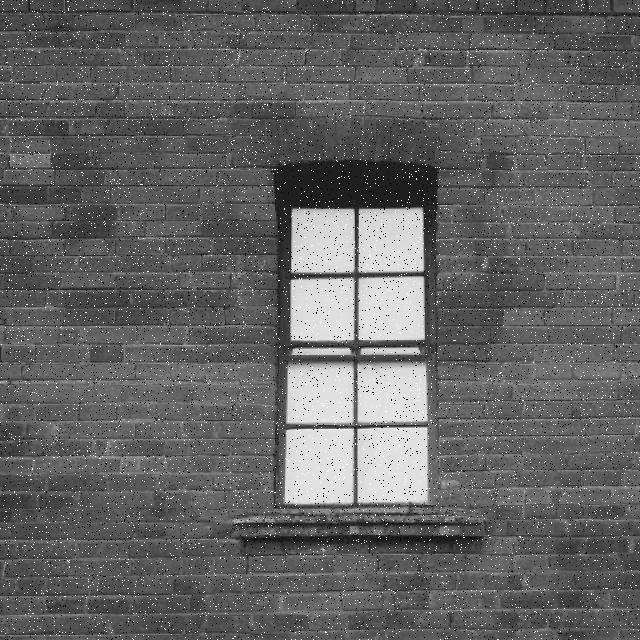window: (274, 164, 436, 504)
